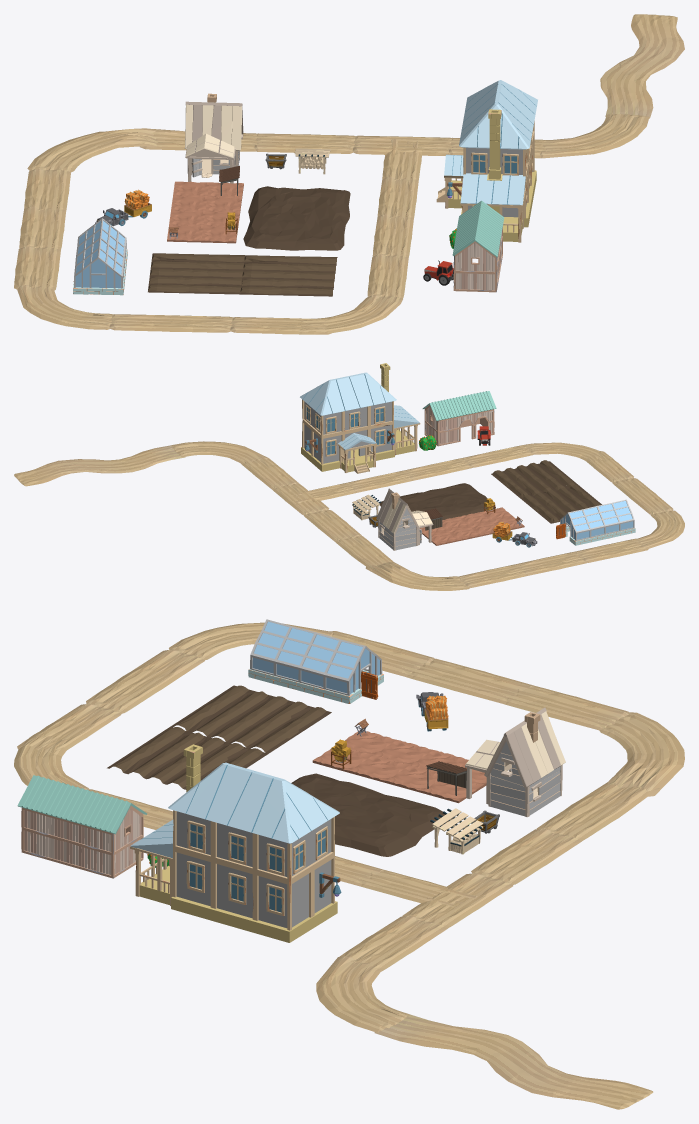
Rendered from dao1scene.gltf.
3 renders of one model, top to bottom at view 1: azimuth 30°, elevation 25°; view 2: azimuth 150°, elevation 25°; view 3: azimuth 270°, elevation 25°, orthographic. The views are drawn at different scales.
Parts seen in each view (by area): view 1: node__House_2Group_MeshRendererMap_5_32762, node_SM_Env_Dirt_Skirt_01_30132, node_SM_Env_Road_Gravel_Swerve_01_31566, node__Group_MeshRendererMap_2Fence_2__5_1_-25202, node_polySurface4_31540, node__Shed_1bMap_6_31322, node_SM_Env_Dirt_Rows_End_Bottom_01_1_29658, node_SM_Env_Dirt_Rows_End_Bottom_01_33626, node__Map_6GreenHouse_33338, node_SM_Env_Road_Gravel_Straight_01_8_31726, node_SM_Env_Road_Gravel_Straight_01_19_2_30582, node_SM_Env_Road_Gravel_Straight_01_2_2_29938 (+16 smaller); view 2: node__House_2Group_MeshRendererMap_5_32762, node__Shed_1bMap_6_31322, node_SM_Env_Road_Gravel_Swerve_01_31566, node__Map_6GreenHouse_33338, node__Group_MeshRendererMap_2Fence_2__5_1_-25202, node_SM_Env_Dirt_Skirt_01_30132, node_polySurface4_31540, node_SM_Env_Dirt_Rows_End_Bottom_01_33626, node_SM_Env_Dirt_Rows_End_Bottom_01_1_29658, node_SM_Env_Road_Gravel_Straight_01_8_31726, node_SM_Env_Road_Gravel_Straight_01_19_2_30582, node_SM_Env_Road_Gravel_Straight_01_2_2_29938 (+16 smaller); view 3: node__House_2Group_MeshRendererMap_5_32762, node__Shed_1bMap_6_31322, node_SM_Env_Road_Gravel_Swerve_01_31566, node__Map_6GreenHouse_33338, node__Group_MeshRendererMap_2Fence_2__5_1_-25202, node_SM_Env_Dirt_Skirt_01_30132, node_SM_Env_Dirt_Rows_End_Bottom_01_1_29658, node_polySurface4_31540, node_SM_Env_Dirt_Rows_End_Bottom_01_33626, node_SM_Env_Road_Gravel_Straight_01_8_31726, node_SM_Env_Road_Gravel_Straight_01_19_2_30582, node_SM_Env_Road_Gravel_Straight_01_5_32146 (+16 smaller).
Boxes of the visible parts, <box> form: node__House_2Group_MeshRendererMap_5_32762: <box>436,80,537,242</box>; node_SM_Env_Dirt_Skirt_01_30132: <box>243,186,350,250</box>; node_SM_Env_Road_Gravel_Swerve_01_31566: <box>600,14,684,118</box>; node__Group_MeshRendererMap_2Fence_2__5_1_-25202: <box>184,93,243,183</box>; node_polySurface4_31540: <box>167,181,243,243</box>; node__Shed_1bMap_6_31322: <box>452,200,504,292</box>; node_SM_Env_Dirt_Rows_End_Bottom_01_1_29658: <box>148,253,245,294</box>; node_SM_Env_Dirt_Rows_End_Bottom_01_33626: <box>240,255,337,296</box>; node__Map_6GreenHouse_33338: <box>73,218,127,295</box>; node_SM_Env_Road_Gravel_Straight_01_8_31726: <box>27,128,158,172</box>; node_SM_Env_Road_Gravel_Straight_01_19_2_30582: <box>540,114,649,158</box>; node_SM_Env_Road_Gravel_Straight_01_2_2_29938: <box>17,285,113,329</box>; node__House_2Group_MeshRendererMap_5_32762: <box>300,363,420,473</box>; node__Shed_1bMap_6_31322: <box>422,391,496,446</box>; node_SM_Env_Road_Gravel_Swerve_01_31566: <box>14,445,185,486</box>; node__Map_6GreenHouse_33338: <box>556,499,635,545</box>; node__Group_MeshRendererMap_2Fence_2__5_1_-25202: <box>376,488,433,550</box>; node_SM_Env_Dirt_Skirt_01_30132: <box>379,483,495,524</box>; node_polySurface4_31540: <box>419,507,524,545</box>; node_SM_Env_Dirt_Rows_End_Bottom_01_33626: <box>491,460,579,498</box>; node_SM_Env_Dirt_Rows_End_Bottom_01_1_29658: <box>521,485,601,523</box>; node_SM_Env_Road_Gravel_Straight_01_8_31726: <box>365,562,470,590</box>; node_SM_Env_Road_Gravel_Straight_01_19_2_30582: <box>171,441,269,463</box>; node_SM_Env_Road_Gravel_Straight_01_2_2_29938: <box>636,510,684,548</box>; node__House_2Group_MeshRendererMap_5_32762: <box>130,744,341,942</box>; node__Shed_1bMap_6_31322: <box>17,775,147,878</box>; node_SM_Env_Road_Gravel_Swerve_01_31566: <box>374,1014,653,1109</box>; node__Map_6GreenHouse_33338: <box>248,619,383,703</box>; node__Group_MeshRendererMap_2Fence_2__5_1_-25202: <box>465,707,565,817</box>; node_SM_Env_Dirt_Skirt_01_30132: <box>291,773,451,856</box>; node_SM_Env_Dirt_Rows_End_Bottom_01_1_29658: <box>170,685,331,753</box>; node_polySurface4_31540: <box>312,730,486,803</box>; node_SM_Env_Dirt_Rows_End_Bottom_01_33626: <box>107,727,267,789</box>; node_SM_Env_Road_Gravel_Straight_01_8_31726: <box>599,712,684,796</box>; node_SM_Env_Road_Gravel_Straight_01_19_2_30582: <box>316,956,409,1032</box>; node_SM_Env_Road_Gravel_Straight_01_5_32146: <box>86,649,204,713</box>.
Size of what is drawn, in the model's own units: 43.92 by 6.36 by 25.61.
